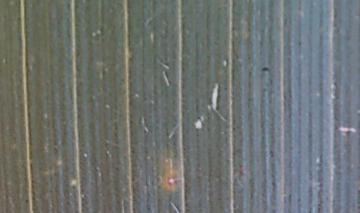tarspot: (260, 64, 271, 74)
